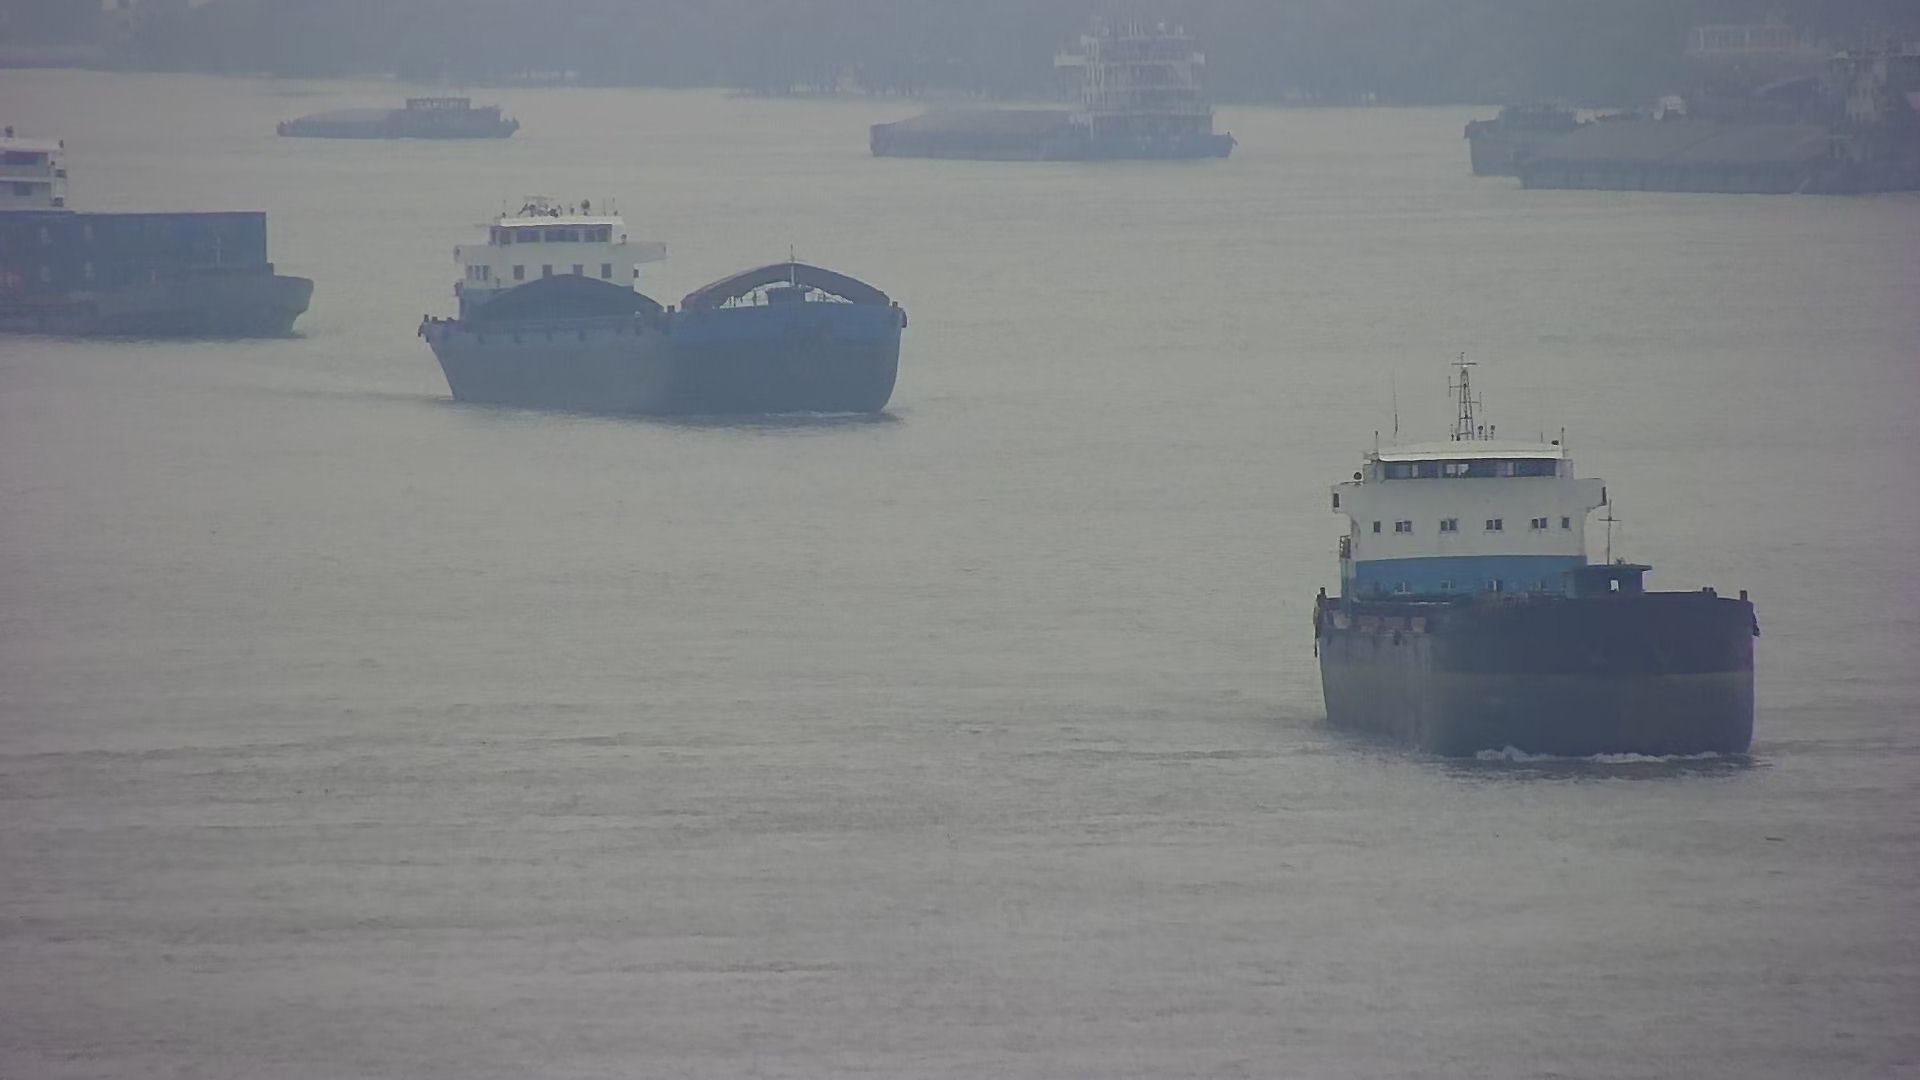ship: (1308, 363, 1755, 770), (431, 196, 905, 427), (1466, 22, 1920, 193), (1, 127, 316, 342), (866, 18, 1233, 164), (274, 92, 520, 141)
